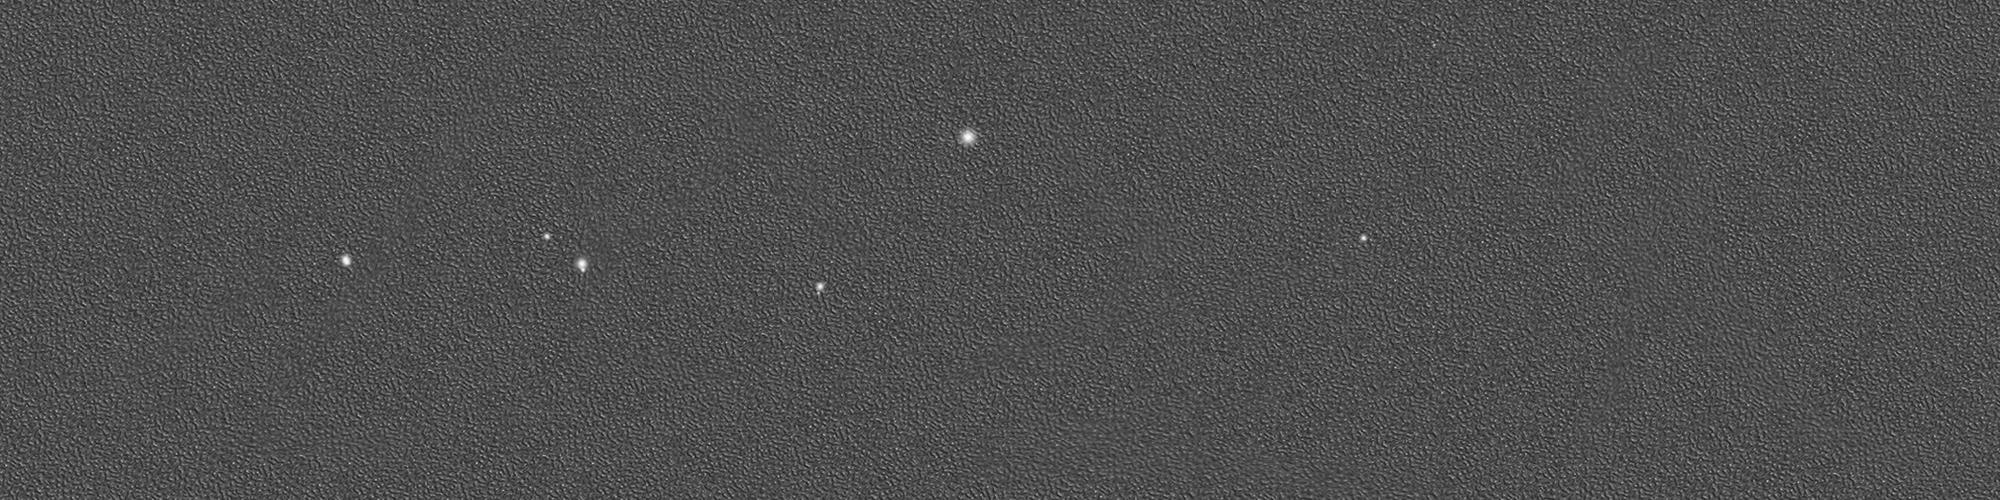Particles: (954, 122, 980, 152), (570, 256, 594, 276), (338, 249, 356, 268), (1355, 230, 1372, 247), (811, 281, 828, 298), (541, 231, 554, 242)
